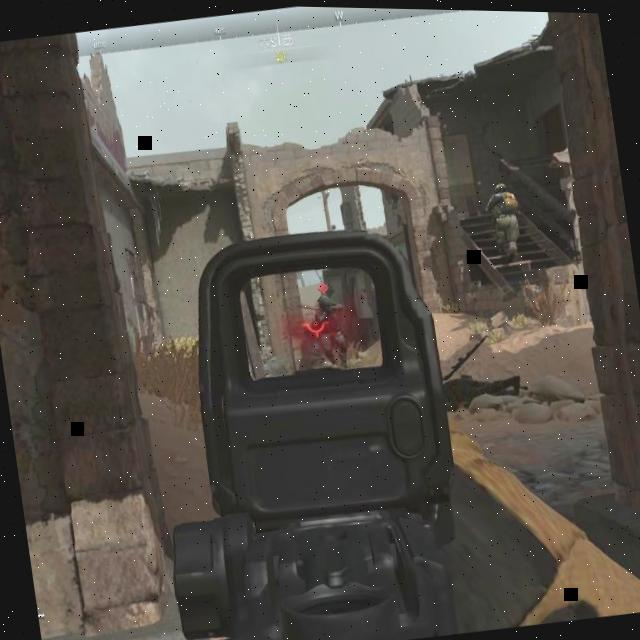MW2_body: (308, 277, 358, 368), (484, 178, 528, 264)
